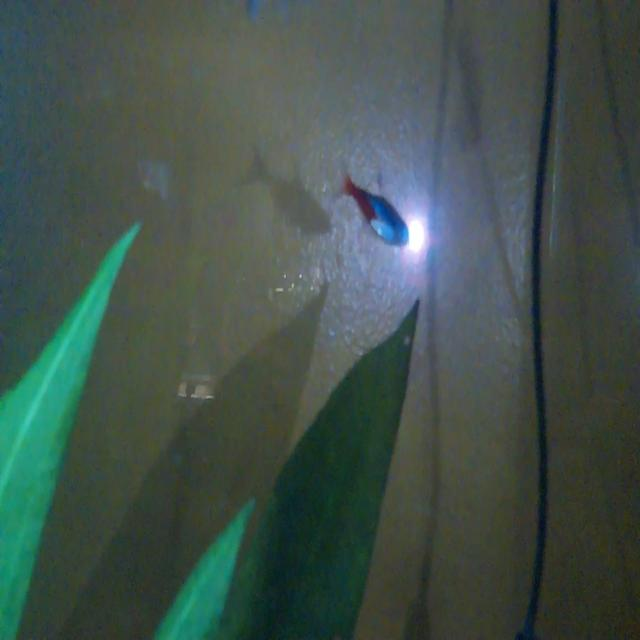fish: (342, 165, 411, 259)
